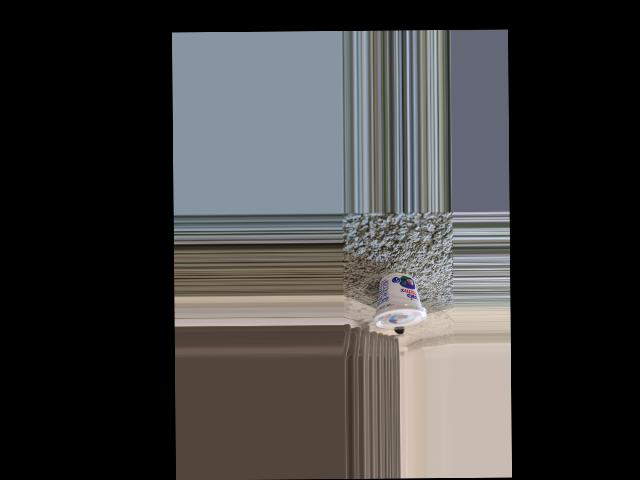cotage: (376, 270, 423, 329)
